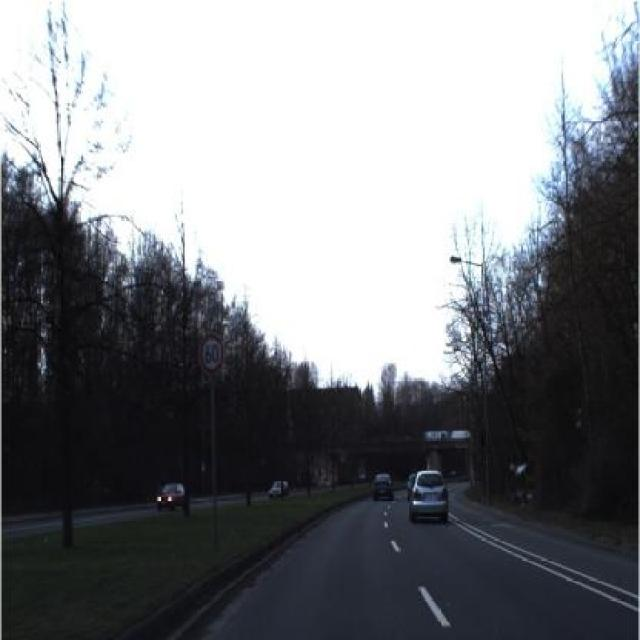forb_speed_over_60: (198, 328, 225, 382)
